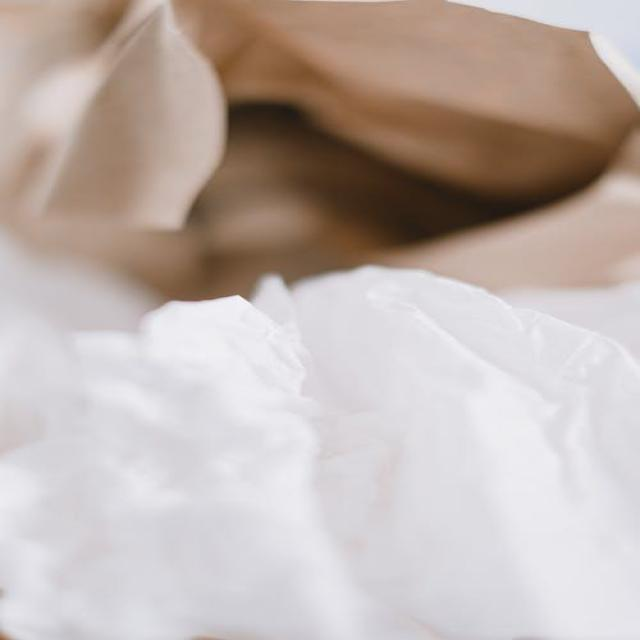plastic: (19, 294, 553, 633)
